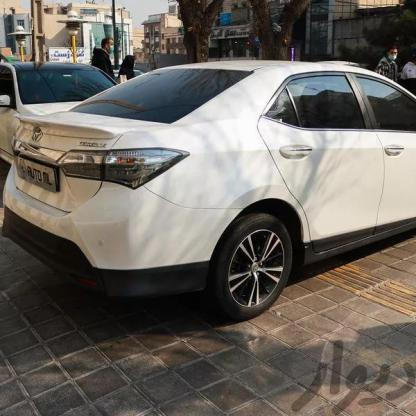Car: (0, 58, 416, 322), (0, 44, 121, 182)
